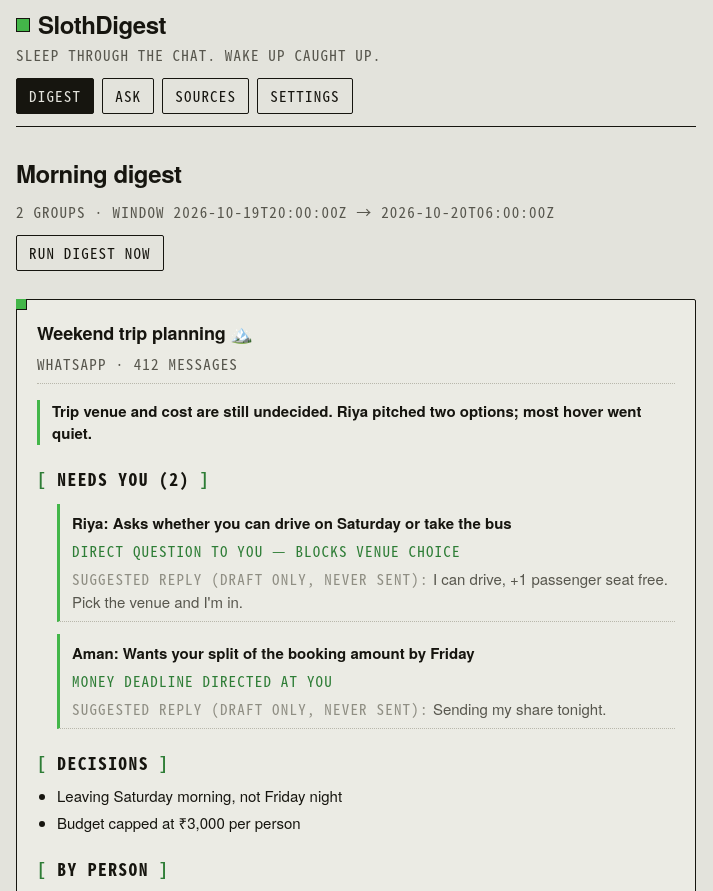
Test case: App navigation › navigates to Sources and shows the upload box
Check: the heading "Morning digest" is shown, box [16,156,182,190]
Click the button "Sources".
click(206, 96)  # box [162,78,249,114]
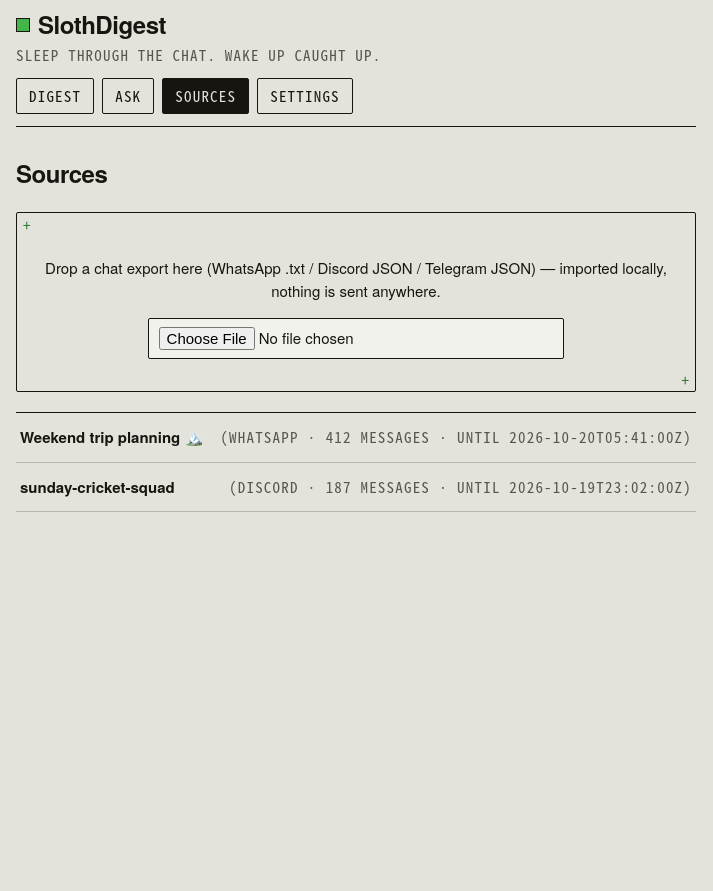
Check: the text "Weekend trip planning 🏔️" is shown, box [20,426,203,450]
Check: the text "imported locally, nothing is sent anywhere" is shown, box [45,257,667,301]
